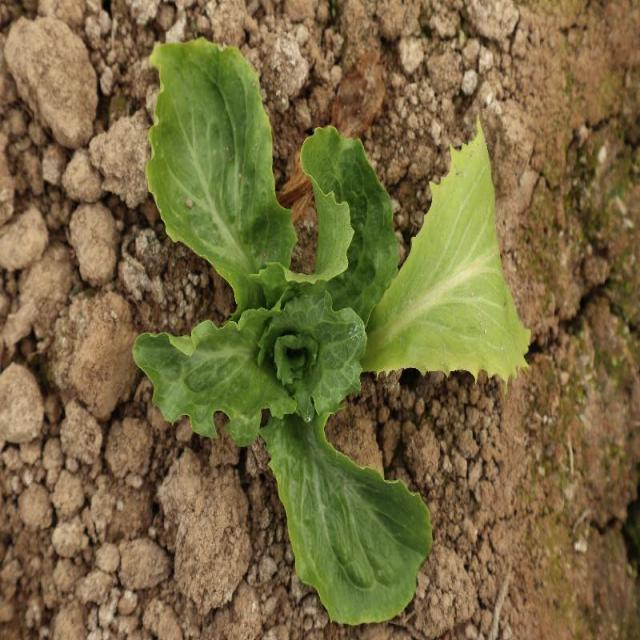crop: (130, 47, 532, 628)
